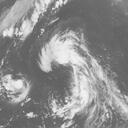cyclone: (2, 73, 31, 104)
